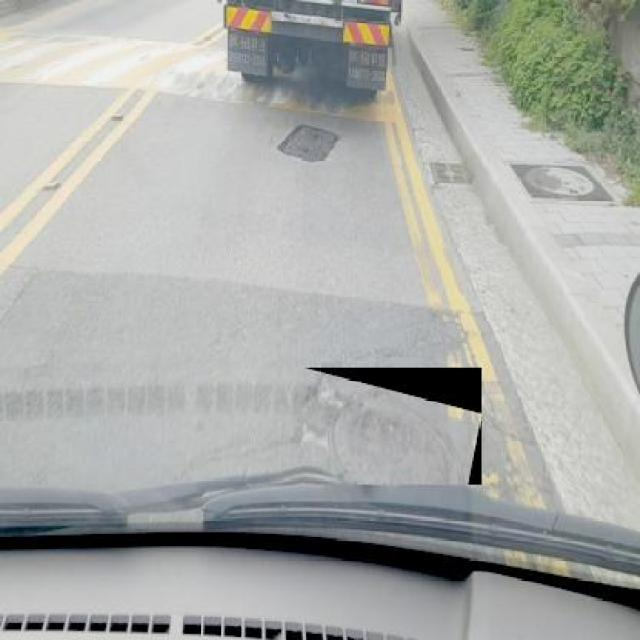Manhole: (303, 368, 482, 484), (508, 159, 618, 203), (427, 159, 472, 186)
Pothole: (276, 126, 344, 166)
Speed Bump: (0, 23, 225, 99)
